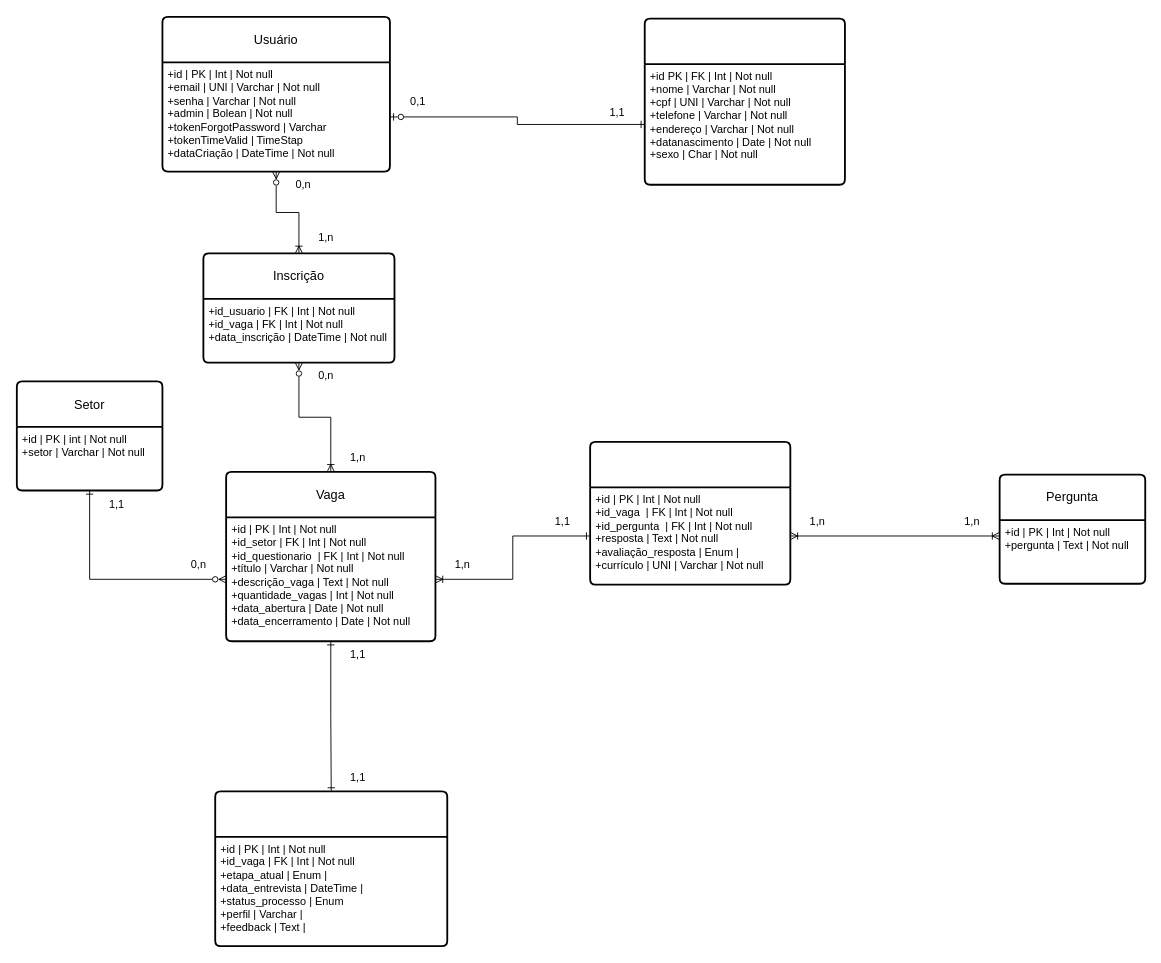
Some shapes in this 1161 by 963 pixel diagram are drawn without their labels. The box of each missing label's shape, as (x1, y1, x2, y2) in pixels:
Dados_Usuário: (643, 17, 845, 185)
Questionário: (589, 440, 791, 585)
Status_Processo_Seletivo: (214, 790, 448, 947)
